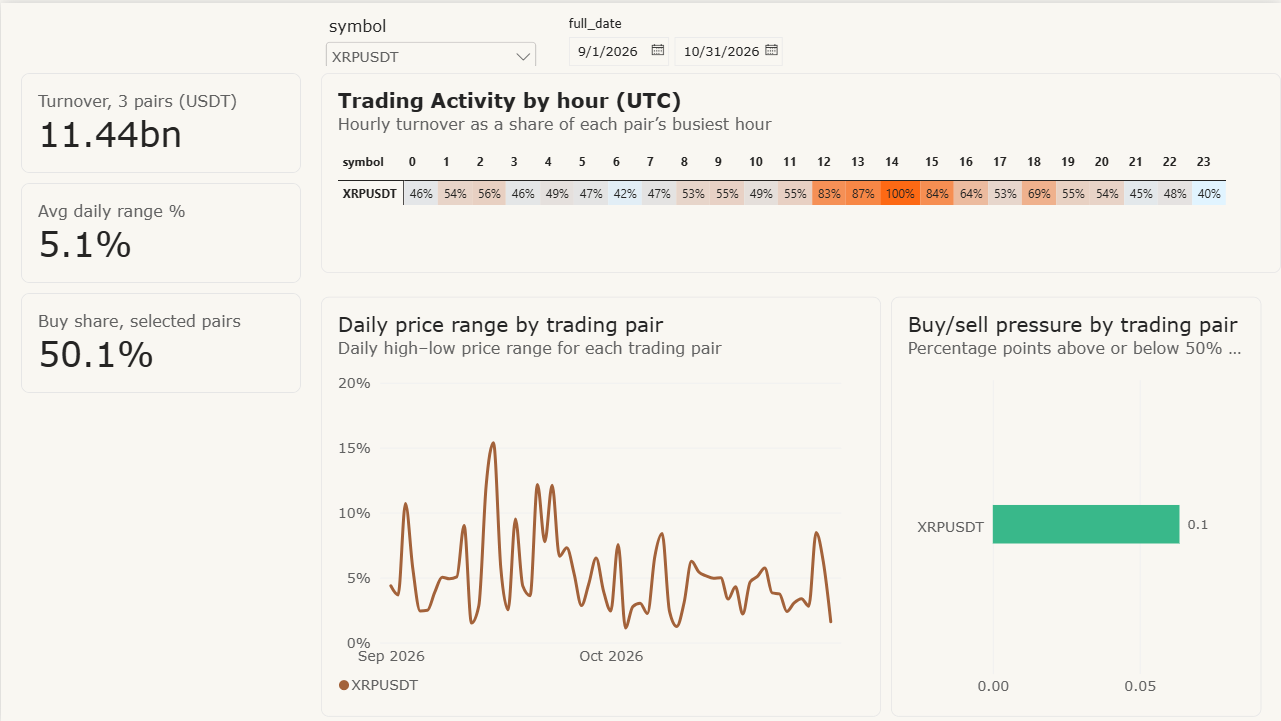

The page's visual inventory and layout, read from the dashboard file:
{"tool":"powerbi","page":{"name":"Page 1","canvas":[1280,720],"ordinal":0},"visuals":[{"type":"pivotTable","title":"Trading Activity by hour (UTC)","fields":{"Columns":["gold vw_symbol_hourly_activity.hour_utc"],"Rows":["gold dim_symbol.symbol"],"Values":["Report Measures.Turnover vs own peak"]},"box":[320,70,960,200],"z":0},{"type":"slicer","fields":{"Values":["gold dim_symbol.symbol"]},"box":[320,12,220,50],"z":1000},{"type":"slicer","fields":{"Values":["gold dim_date.full_date"]},"box":[560,12,300,50],"z":2000},{"type":"lineChart","title":"Daily price range by trading pair","fields":{"Category":["gold dim_date.full_date"],"Series":["gold dim_symbol.symbol"],"Y":["Report Measures.Avg daily range %"]},"box":[320,293.8,560,420],"z":3000},{"type":"clusteredBarChart","title":"Buy/sell pressure by trading pair","fields":{"Category":["gold dim_symbol.symbol"],"Y":["Report Measures.Buy pressure pp"]},"box":[890,293.8,370,420],"z":4000},{"type":"cardVisual","fields":{"Data":["Report Measures.Turnover"]},"box":[20,70,280,100],"z":5000},{"type":"cardVisual","fields":{"Data":["Report Measures.Avg daily range %"]},"box":[20,180,280,100],"z":6000},{"type":"cardVisual","fields":{"Data":["Report Measures.Buy share"]},"box":[20,290,280,100],"z":7000}]}

Visuals, with their boxes in screenshot pixels (x1, y1, x2, y2), scaled from the page's 1280x720 canvas onto the 1281x721 screenshot:
"Trading Activity by hour (UTC)" pivotTable: rect(320, 70, 1280, 270)
slicer - gold dim_symbol.symbol: rect(320, 12, 540, 62)
slicer - gold dim_date.full_date: rect(560, 12, 861, 62)
"Daily price range by trading pair" lineChart: rect(320, 294, 881, 715)
"Buy/sell pressure by trading pair" clusteredBarChart: rect(891, 294, 1261, 715)
cardVisual - Report Measures.Turnover: rect(20, 70, 300, 170)
cardVisual - Report Measures.Avg daily range %: rect(20, 180, 300, 280)
cardVisual - Report Measures.Buy share: rect(20, 290, 300, 391)
